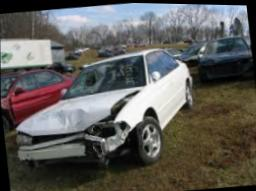Bonnet: (18, 85, 144, 136)
Bumper: (17, 121, 134, 161)
Light: (87, 120, 115, 137)
Windshield: (66, 53, 145, 96)
